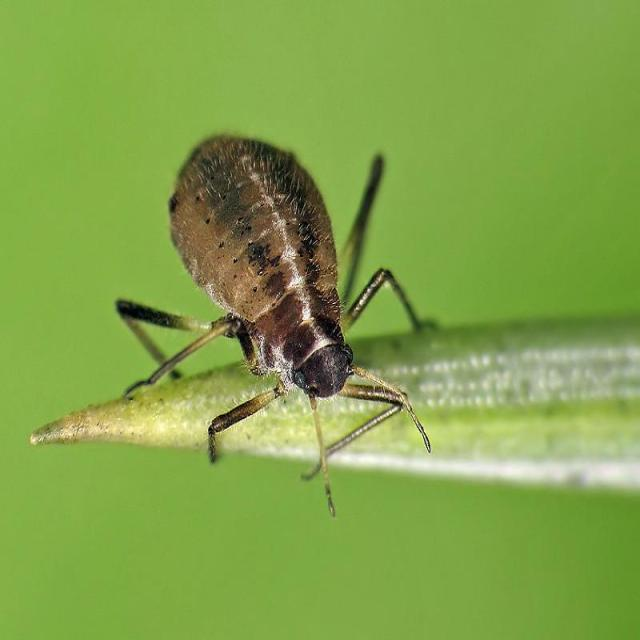Aphids: (106, 136, 452, 472)
